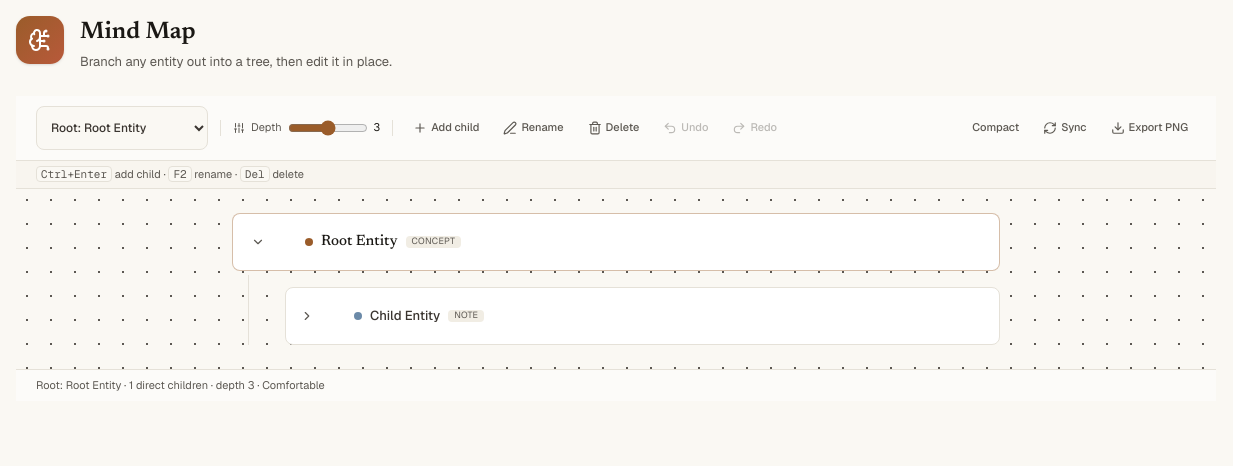
MindMapView branch coverage › toggles node expansion when chevron is clicked
Click the button named "Expand" at (320, 316), box [298,294,342,338]
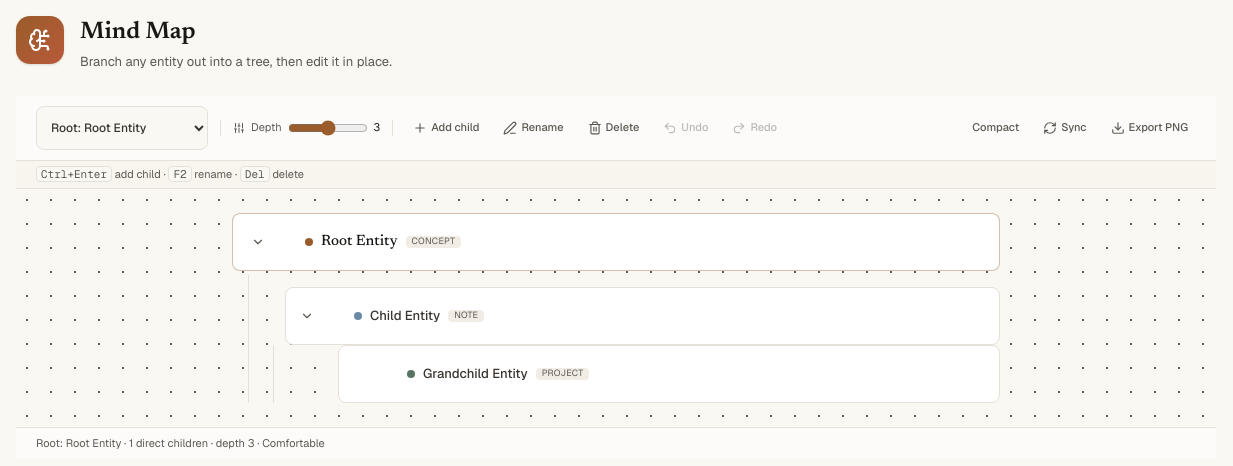
Click the button named "Collapse" in the row of "Note" at (320, 316), box [298,294,342,338]
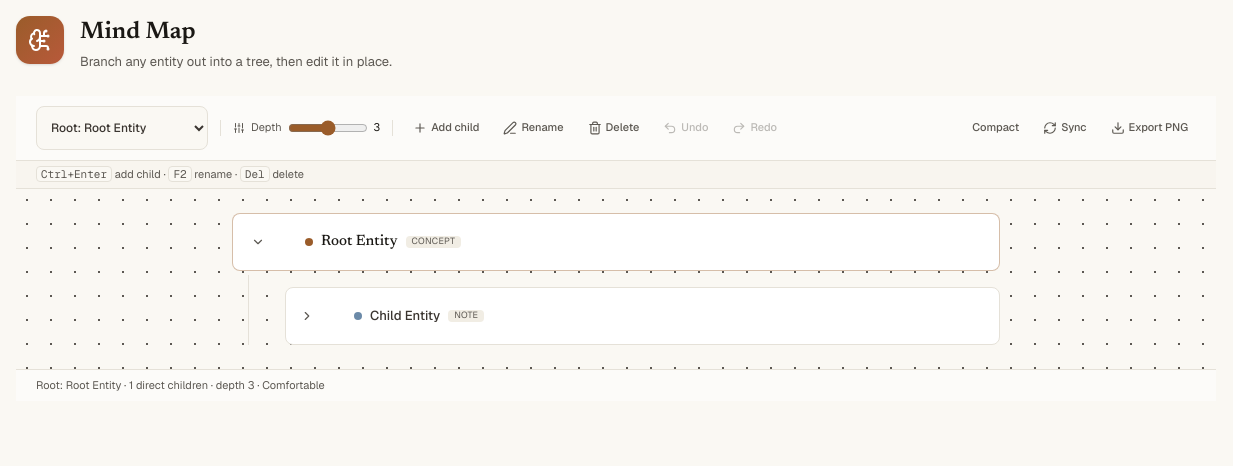
expect the button named "Expand" is shown: met, box [298,294,342,338]
